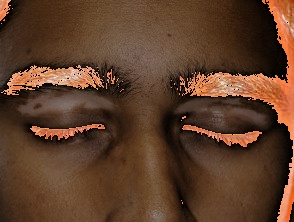vitiligo: (156, 63, 294, 195), (2, 69, 131, 134)
